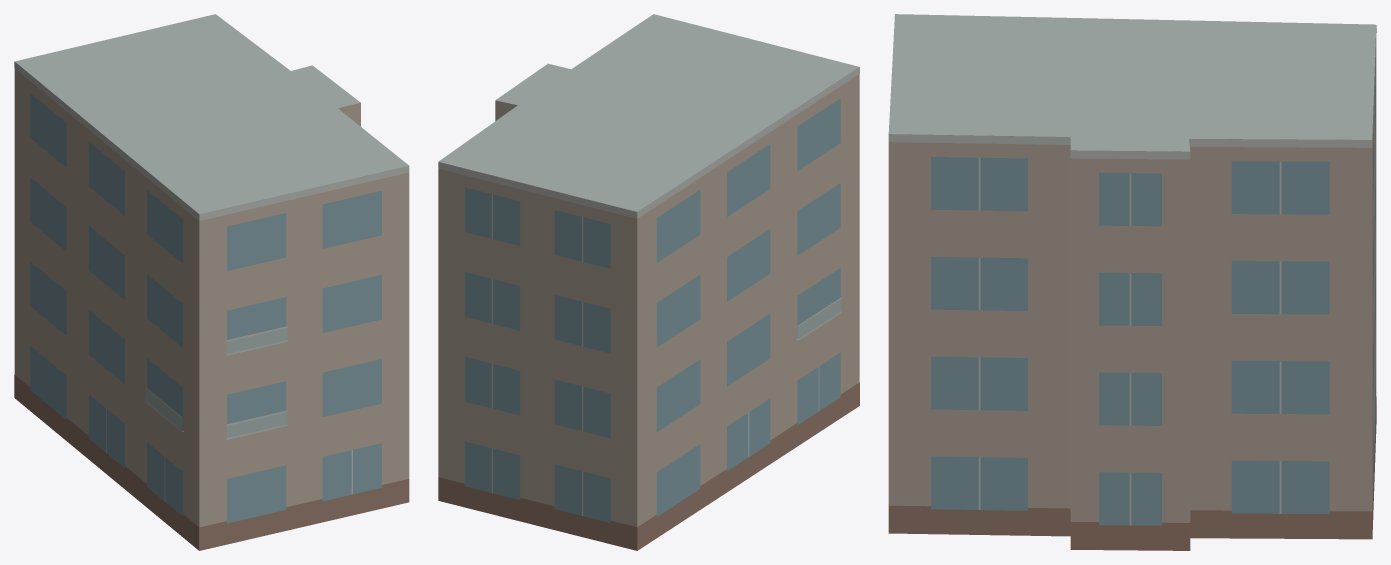
File: survey-upis-32787834.glb
The picture shows the model from 3 angles, left to right: view 1: azimuth 30°, elevation 25°; view 2: azimuth 150°, elevation 25°; view 3: azimuth 270°, elevation 25°; orthographic projection. The views are drawn at different scales.
Visible parts, largest first — view 1: survey-upis-32787834.tmp; view 2: survey-upis-32787834.tmp; view 3: survey-upis-32787834.tmp.
Part boxes in pixels (x1=…): survey-upis-32787834.tmp: x1=14, y1=14, x2=409, y2=550; survey-upis-32787834.tmp: x1=438, y1=14, x2=859, y2=550; survey-upis-32787834.tmp: x1=888, y1=14, x2=1376, y2=550.
Bounding box in the file's own units: 8.98 × 12.15 × 13.46.
